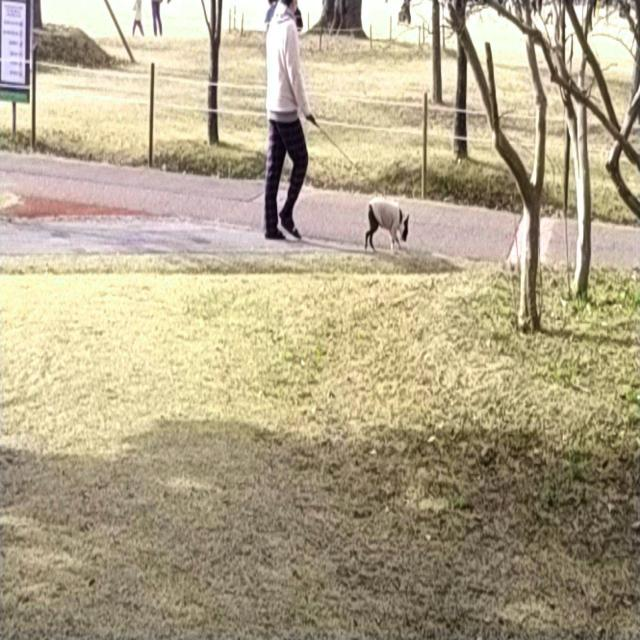Leashed_Dog: (286, 93, 410, 251)
